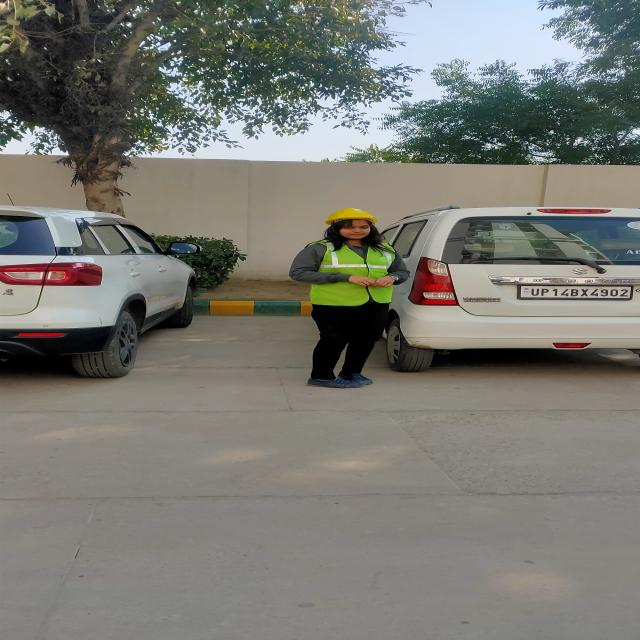safe: (288, 208, 409, 388)
